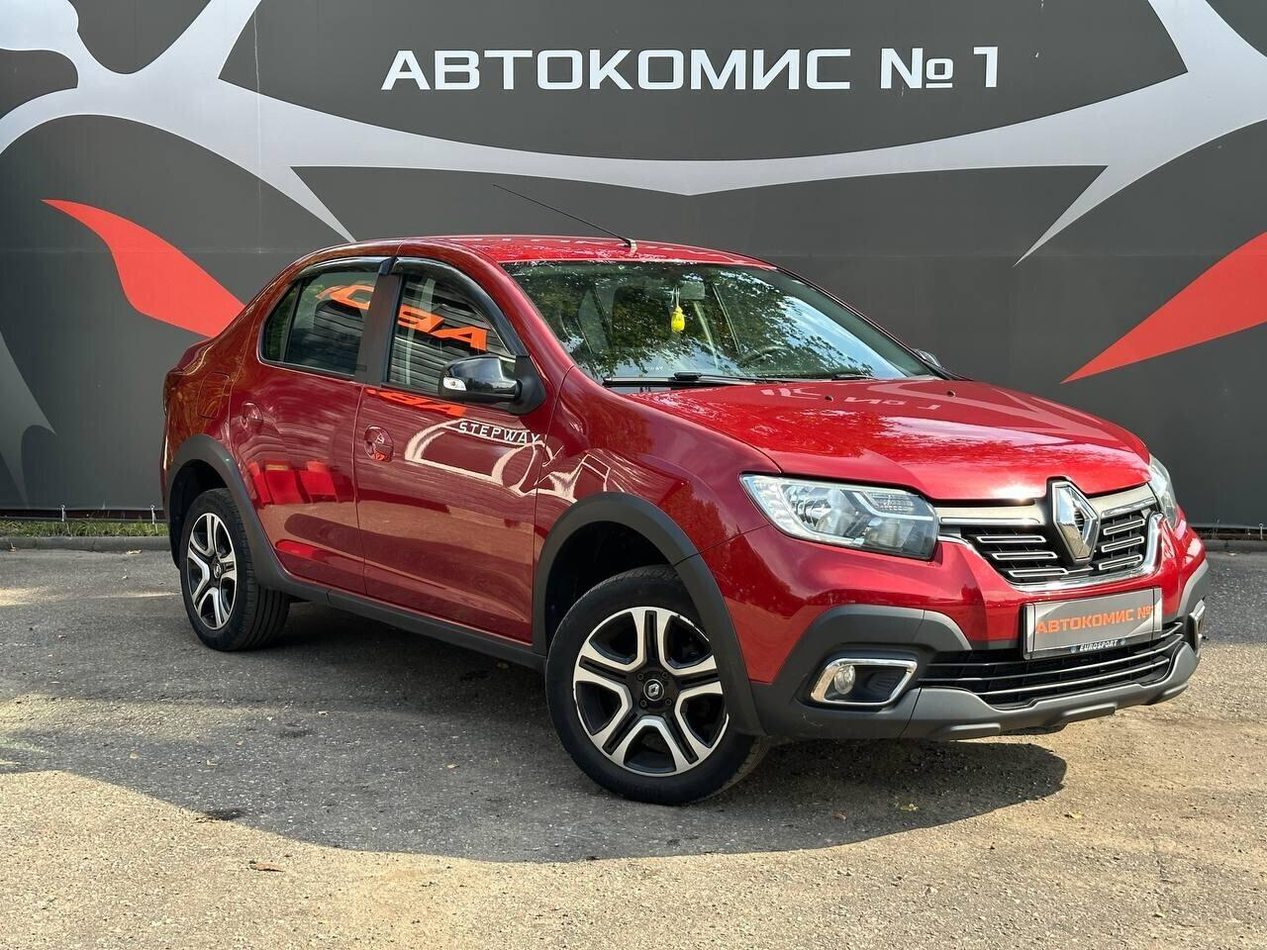Logan_2018: (158, 224, 1219, 800)
